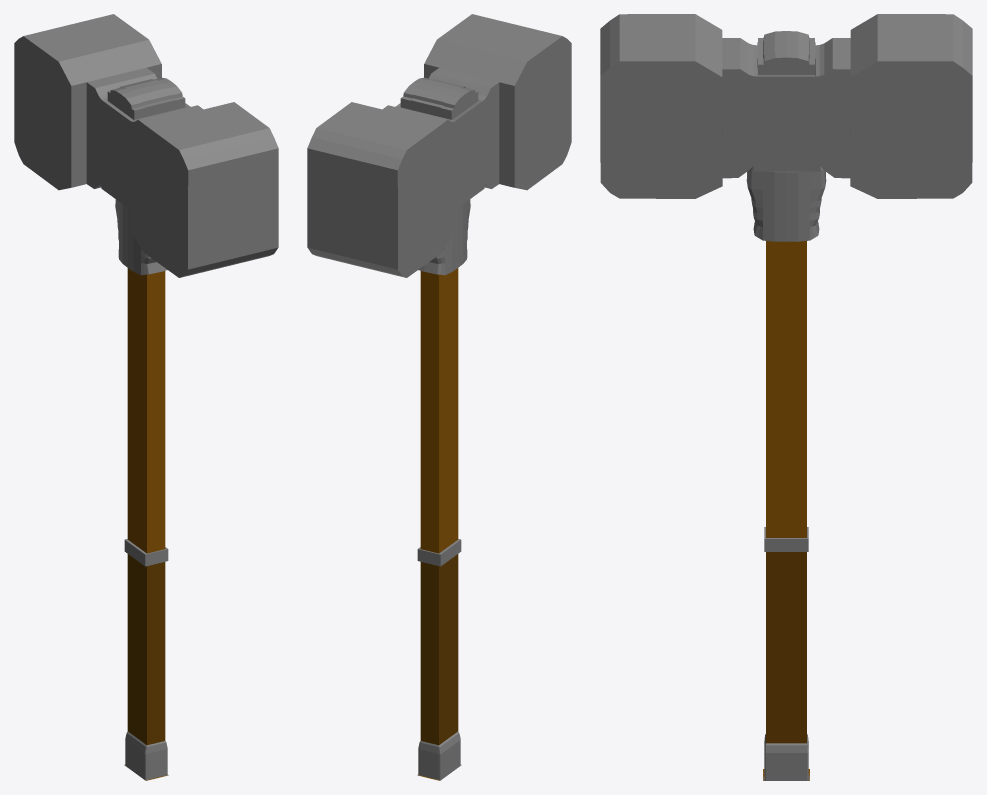
File: arma2.fbx
The picture shows the model from 3 angles, left to right: view 1: azimuth 30°, elevation 25°; view 2: azimuth 150°, elevation 25°; view 3: azimuth 270°, elevation 25°; orthographic projection. The views are drawn at different scales.
Visible parts, largest first — view 1: Cubo.001; view 2: Cubo.001; view 3: Cubo.001.
Boxes of the visible parts, <box> form: Cubo.001: <box>14,14,278,780</box>; Cubo.001: <box>307,14,571,780</box>; Cubo.001: <box>600,14,972,780</box>.
Size of the model in its own units: 86.96 by 632 by 289.
